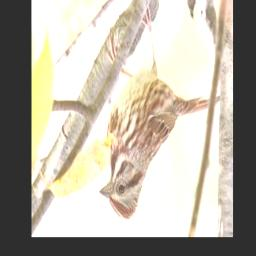Sparrow: (97, 3, 222, 224)
